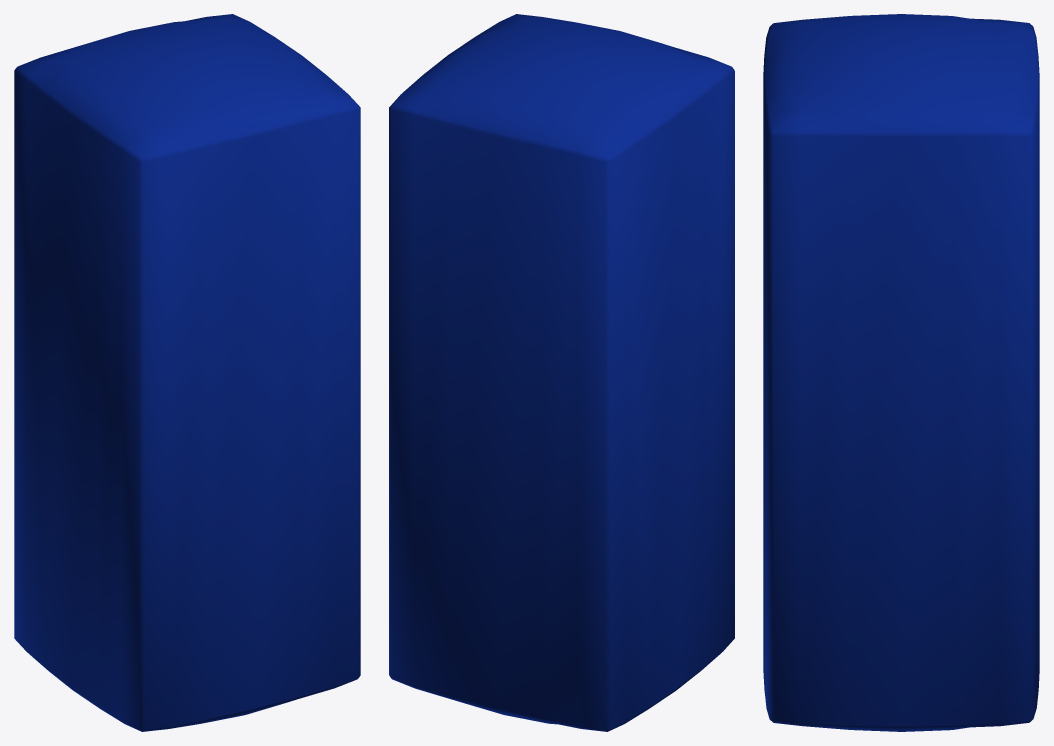
3 views of the same model, side by side, from view 1: azimuth 30°, elevation 25°; view 2: azimuth 150°, elevation 25°; view 3: azimuth 270°, elevation 25° (orthographic). The views are drawn at different scales.
Visible parts, largest first — view 1: 柱子_左001; view 2: 柱子_左001; view 3: 柱子_左001.
Boxes of the visible parts, box(x1,y1,x2,y2) form: 柱子_左001: box(14, 14, 360, 731); 柱子_左001: box(389, 14, 734, 731); 柱子_左001: box(763, 14, 1039, 731).
Bounding box in the file's own units: 2.01 × 5.26 × 2.01.
1 material, 1 textured.
